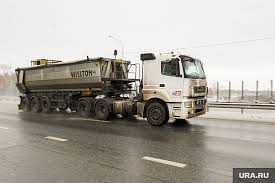Truck: (15, 53, 208, 126)
